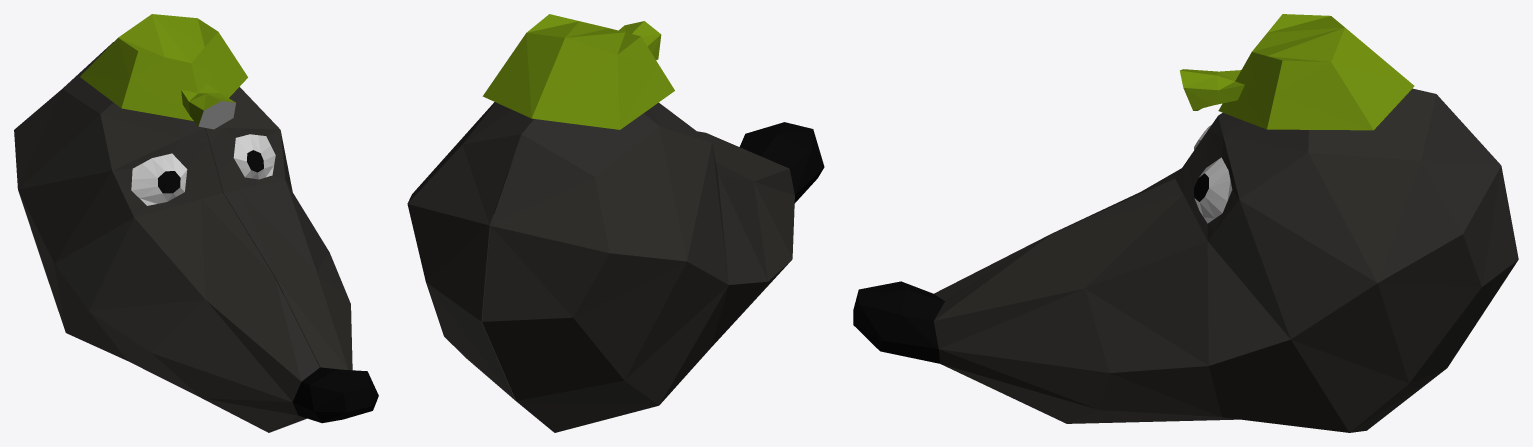
File: mole_scaled_googly.obj
3 views of the same model, side by side, from view 1: azimuth 30°, elevation 25°; view 2: azimuth 150°, elevation 25°; view 3: azimuth 270°, elevation 25° (orthographic). The views are drawn at different scales.
Parts seen in each view (by area): view 1: Plane.001_Plane.002, Plane.002_Plane.003; view 2: Plane.001_Plane.002, Plane.002_Plane.003; view 3: Plane.001_Plane.002, Plane.002_Plane.003.
Part boxes in pixels (bbox=[...]): Plane.001_Plane.002: bbox=[14, 42, 378, 432]; Plane.002_Plane.003: bbox=[80, 14, 247, 129]; Plane.001_Plane.002: bbox=[407, 102, 824, 432]; Plane.002_Plane.003: bbox=[482, 14, 674, 129]; Plane.001_Plane.002: bbox=[853, 88, 1518, 432]; Plane.002_Plane.003: bbox=[1179, 14, 1414, 130].
Size of the model in its own units: 136 by 183 by 274.
